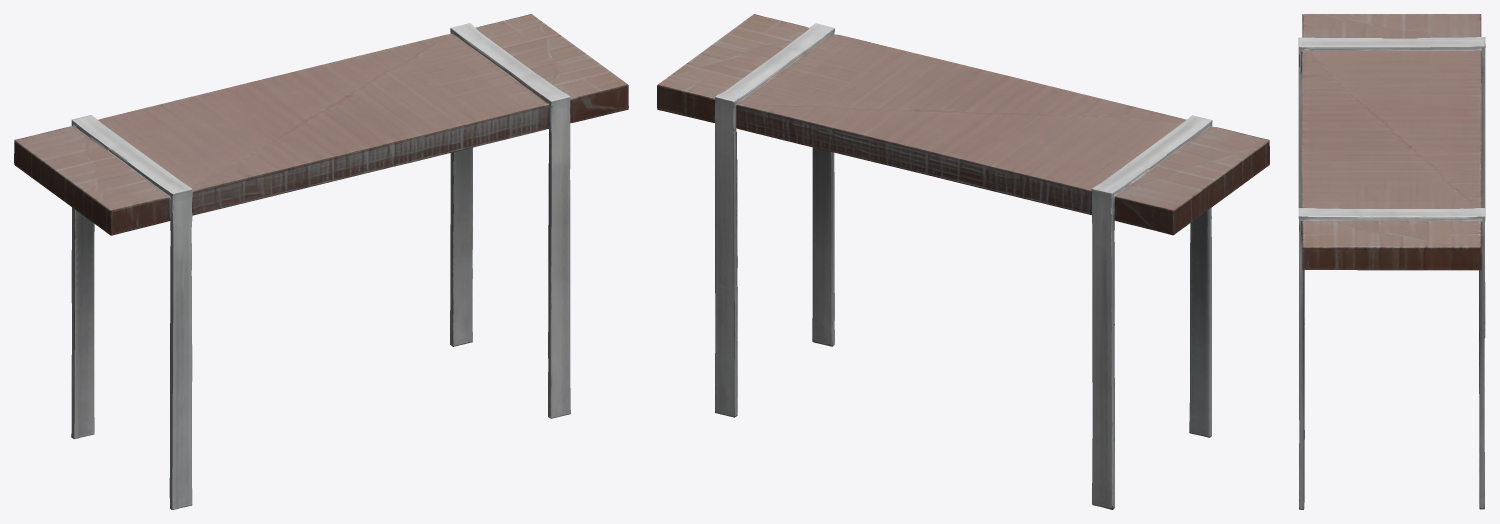
File: original.glb
3 renders of one model, left to right at view 1: azimuth 30°, elevation 25°; view 2: azimuth 150°, elevation 25°; view 3: azimuth 270°, elevation 25°, orthographic. The views are drawn at different scales.
Parts seen in each view (by area): view 1: world; view 2: world; view 3: world.
Part boxes in pixels (<box>): world: <box>14,14,628,509</box>; world: <box>657,14,1269,509</box>; world: <box>1298,14,1485,509</box>.
Size of the model in its own units: 0.8294 by 0.4864 by 0.281.
Materials: 1 (1 with a texture image).
